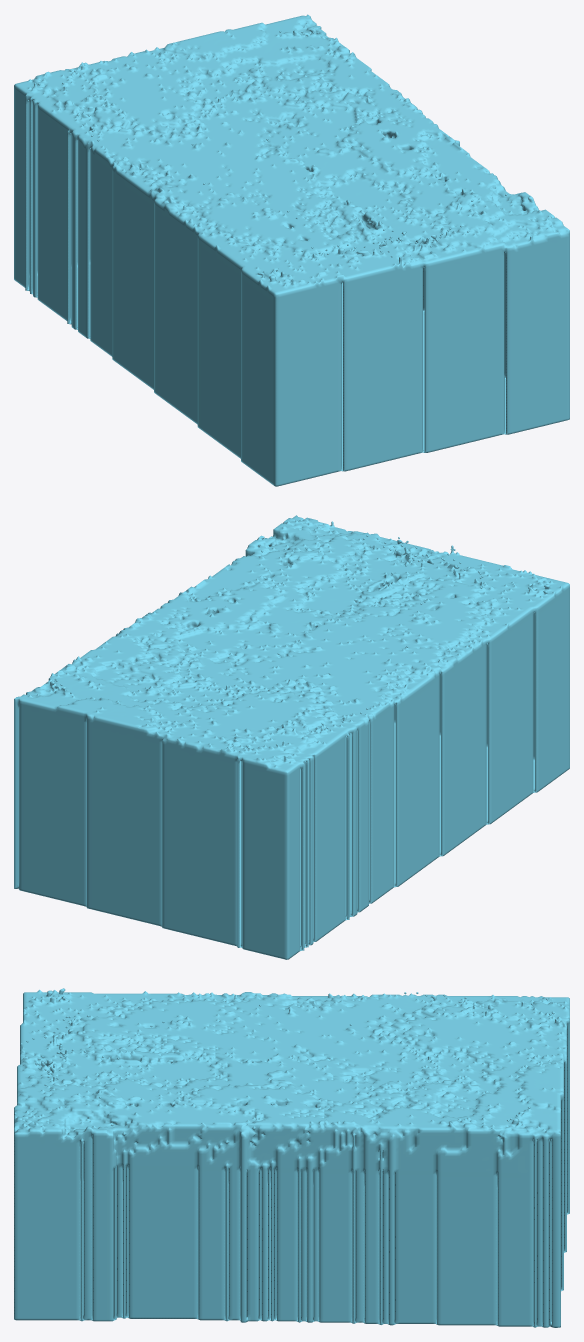
File: east_inside-collision.glb
The picture shows the model from 3 angles, top to bottom: view 1: azimuth 30°, elevation 25°; view 2: azimuth 150°, elevation 25°; view 3: azimuth 270°, elevation 25°; orthographic projection. The views are drawn at different scales.
Visible parts, largest first — view 1: Collision mesh; view 2: Collision mesh; view 3: Collision mesh.
Part boxes in pixels (x1=…): Collision mesh: x1=14, y1=14, x2=569, y2=486; Collision mesh: x1=14, y1=515, x2=569, y2=959; Collision mesh: x1=14, y1=988, x2=569, y2=1327.
Size of the model in its own units: 11.5 by 7.33 by 18.4.
